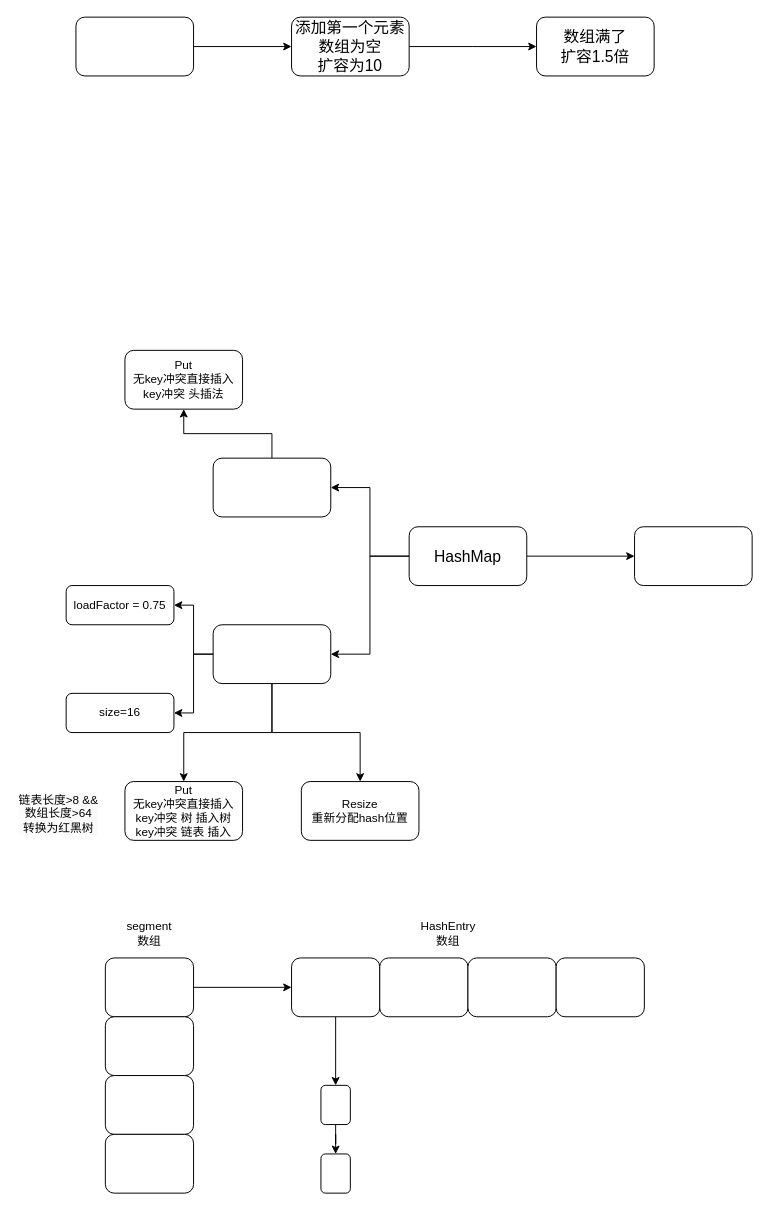
This 769x1210 diagram has some shape labels left out. The box of each missing label's shape, as (x1, y1, x2, y2) in pixels:
1.8 拉链 + 红黑树: (212, 624, 331, 684)
1.8之前 拉链: (212, 457, 331, 517)
ArrayList: (75, 16, 194, 76)
hash() (n - 1) % hash: (634, 526, 752, 586)
